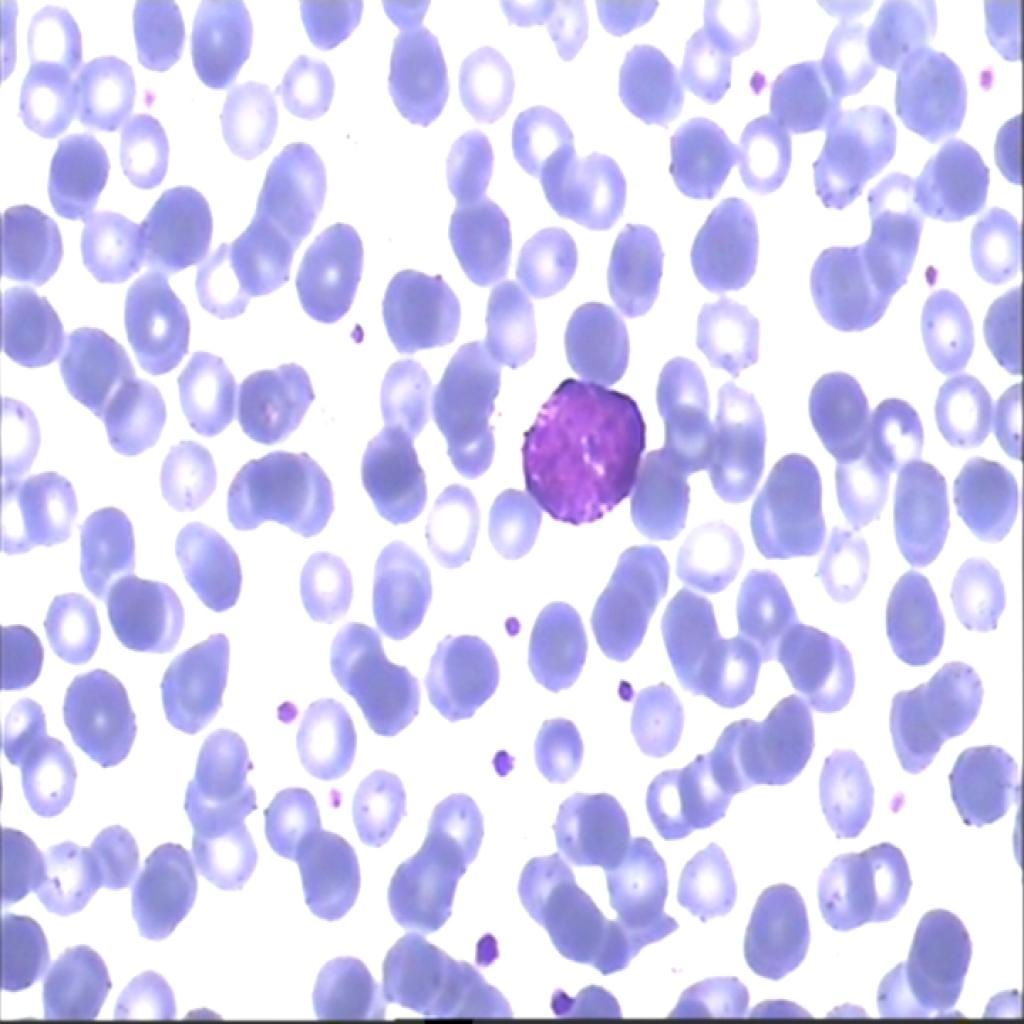Basofil: (506, 355, 656, 537)
Platelet: (464, 907, 504, 985), (606, 662, 650, 726), (963, 50, 1005, 112), (336, 299, 386, 350), (910, 242, 947, 304), (266, 695, 307, 745), (475, 731, 515, 782), (490, 610, 530, 656), (737, 50, 768, 100)
